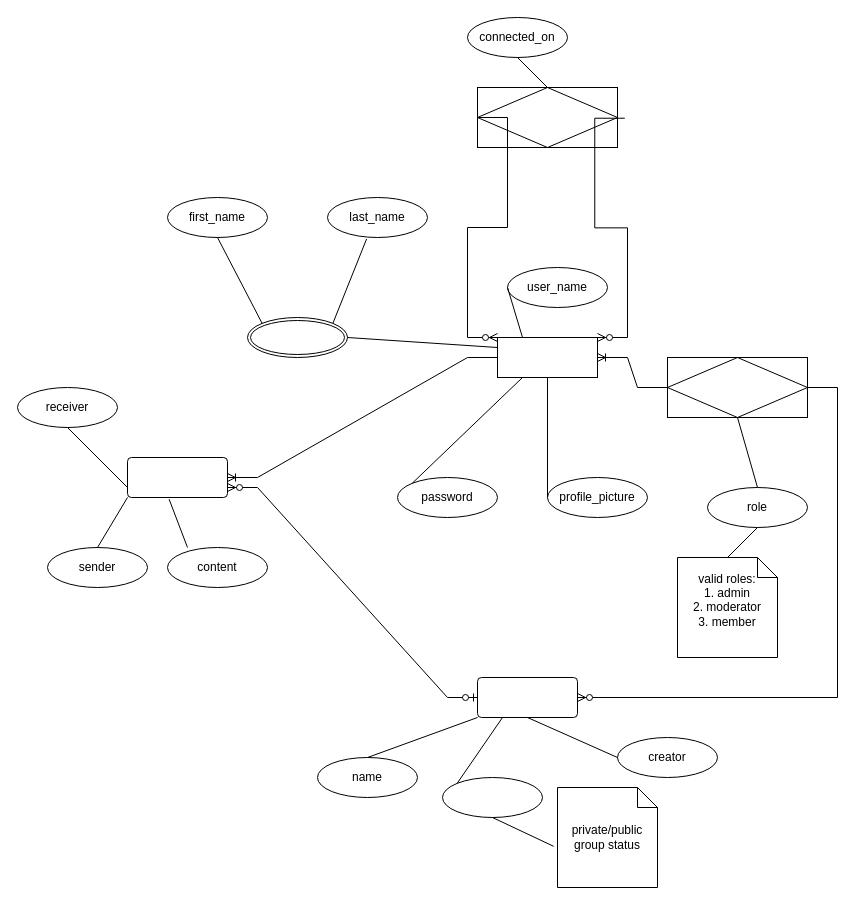
Image size: 863x905. Some labels were removed from this diagram. Each missing label, with the box of its shape:
friendship: (476, 86, 618, 148)
full_name: (246, 316, 348, 358)
group: (476, 676, 578, 718)
membership: (666, 356, 808, 418)
message: (126, 456, 228, 498)
user: (496, 336, 598, 378)
visibility: (442, 776, 542, 818)
